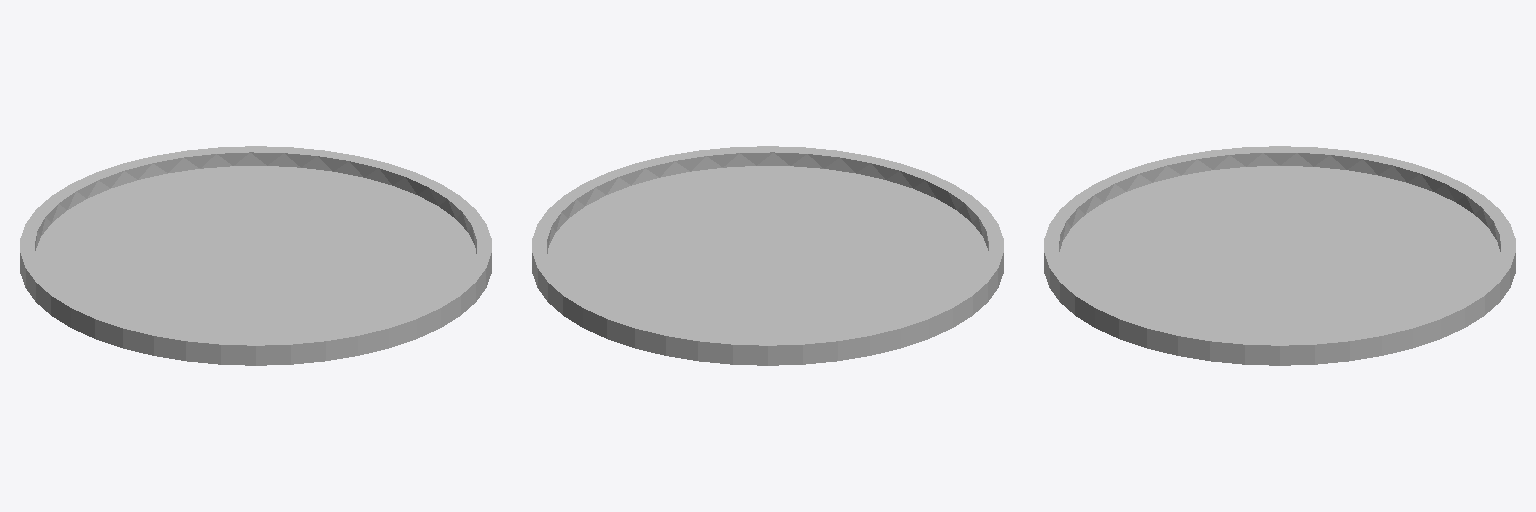
robot.urdf — boundary:
<?xml version="1.0" encoding="utf-8"?>

<robot name="boundary">
  <material name="stage_material">
    <color rgba="0.8 0.8 0.8 1.0"/>
  </material>
  
  <link name="boundary_link">
    <visual>
      <origin rpy="0 0 0" xyz="0 0 0"/>
      <geometry>
        <mesh filename="./mesh/boundary-60cm.obj" scale="0.001 0.001 0.001"/>
      </geometry>
      <material name="stage_material"/>
    </visual>

    <collision>
      <origin rpy="0 0 0" xyz="0 0 0"/>
      <geometry>
        <mesh filename="./mesh/boundary-60cm.obj" scale="0.001 0.001 0.001"/>
      </geometry>
    </collision>

    <inertial>
      <origin rpy="0 0 0" xyz="0 0 0"/>
      <mass value="1"/>
      <inertia ixx="0.00770833333333" ixy="0" ixz="0" iyy="0.00770833333333" iyz="0" izz="0.015"/>
    </inertial>
  </link>
</robot>

--- What the picture shows (computed from the rendered views, not written in the file) ---
Views: 3 orthographic renders of the robot side by side, from view 1: azimuth 30°, elevation 25°; view 2: azimuth 150°, elevation 25°; view 3: azimuth 270°, elevation 25°.
Robot: boundary — 1 links, 0 joints (none); root link boundary_link; default pose: all joints at 0.
Visible links, largest first — view 1: boundary_link; view 2: boundary_link; view 3: boundary_link.
Link boxes in pixels (left/top/right/bottom): boundary_link: left=20, top=146, right=491, bottom=365; boundary_link: left=532, top=146, right=1003, bottom=365; boundary_link: left=1044, top=146, right=1515, bottom=365.
Size in the robot's own frame: 0.64 by 0.6382 by 0.03 metres.
Meshes: 1 distinct files referenced, 1 mesh visuals loaded (1 OBJ).